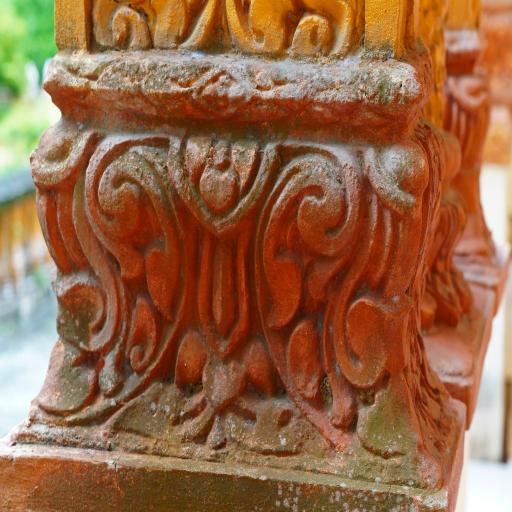la: (26, 112, 467, 482), (35, 0, 411, 57)
